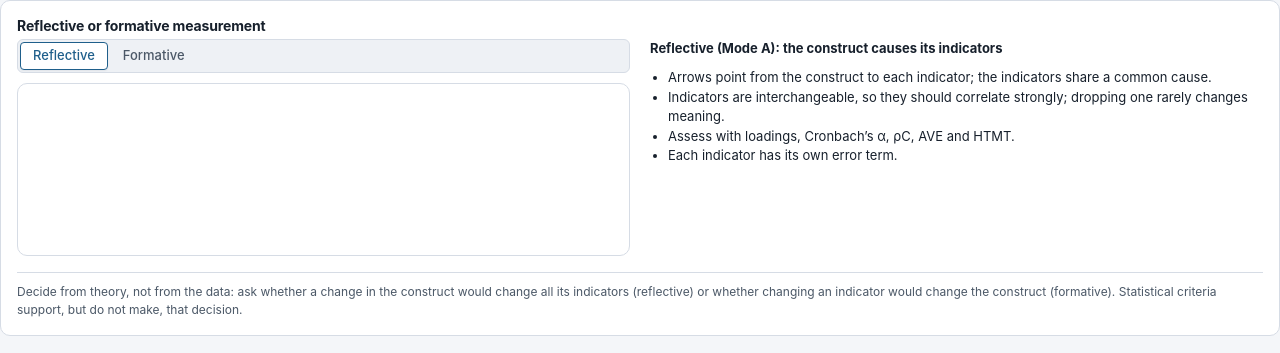
Scenario: demos show live numbers from the formulas › reflective-formative flips the arrows description and the consequences
Expected: the heading "Reflective (Mode A): the construct causes its indicators" is shown, x1=650 y1=40 x2=1002 y2=56
Click the radio button labelled "Formative" at (154, 56), box x1=110 y1=42 x2=198 y2=70
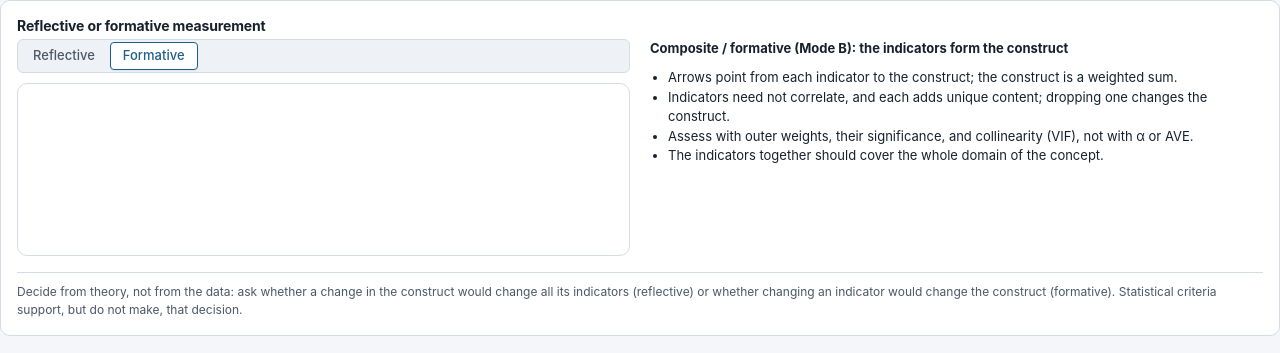
Expected: the heading "the indicators form the construct" is shown, x1=650 y1=40 x2=1068 y2=56
Expected: the list item "outer weights" is shown, x1=668 y1=128 x2=1194 y2=144
